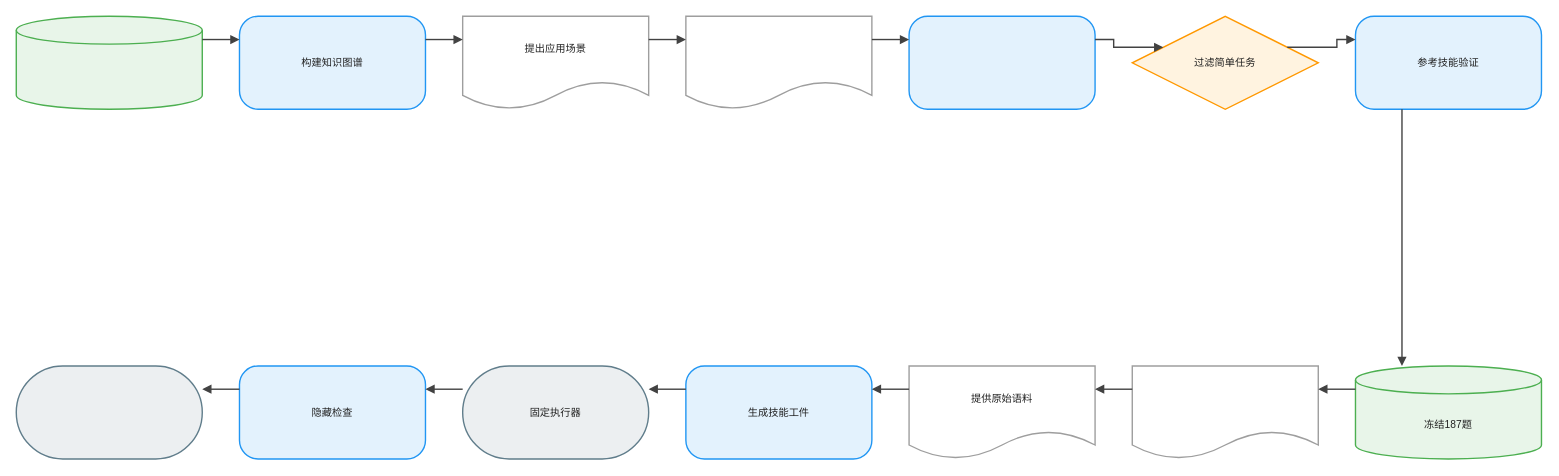
The diagram is 1559 pixels wide and 476 high, and some of its shapes have lost their labels. Here are the shapes that lost their labels. From the top down, the box of each, then its label:
(15, 15, 203, 110): 固定来源
(685, 15, 872, 110): 生成任务
(908, 15, 1095, 110): 修订测试
(15, 365, 203, 459): 报告Pass@3
(1131, 365, 1319, 459): 选择生成设置
